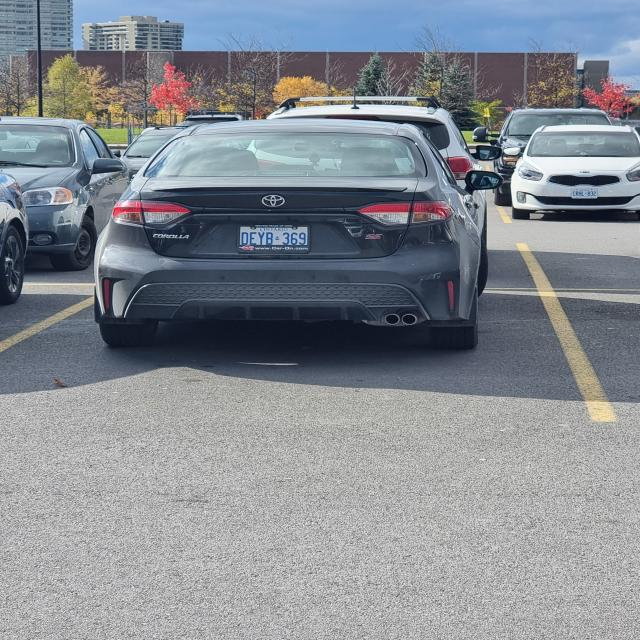plaque: (239, 226, 309, 252), (572, 189, 597, 198)
